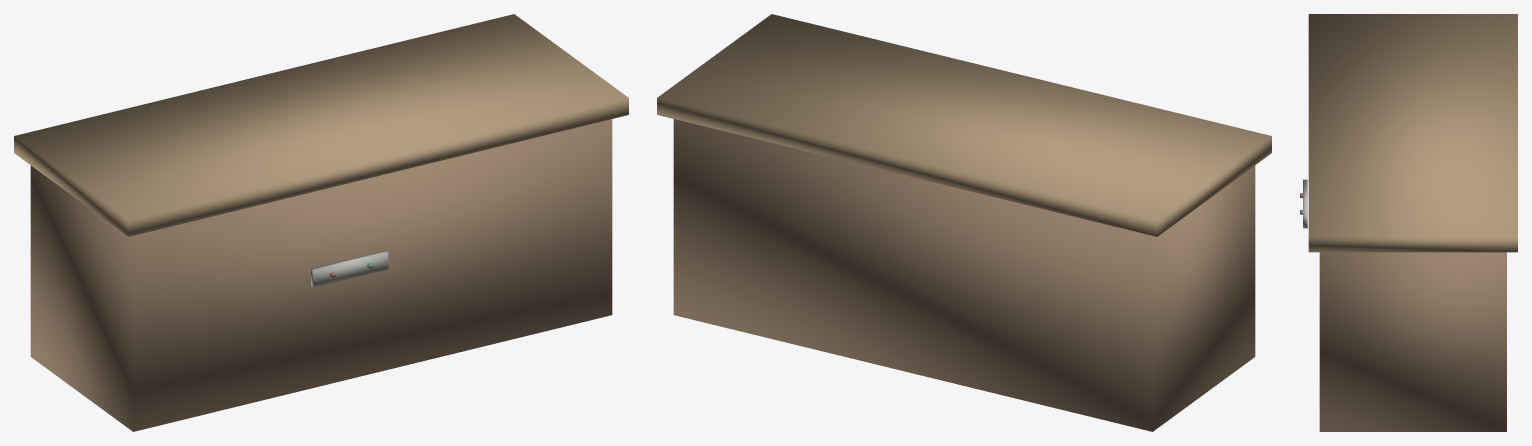
File: host_stand__squat.glb
3 renders of one model, left to right at view 1: azimuth 30°, elevation 25°; view 2: azimuth 150°, elevation 25°; view 3: azimuth 270°, elevation 25°, orthographic. The views are drawn at different scales.
Parts seen in each view (by area): view 1: world; view 2: world; view 3: world.
Boxes of the visible parts, bbox=[...] form: world: bbox=[14, 14, 628, 431]; world: bbox=[657, 14, 1271, 431]; world: bbox=[1300, 14, 1517, 431].
Bounding box in the file's own units: 2.07 × 0.8652 × 0.8543.
